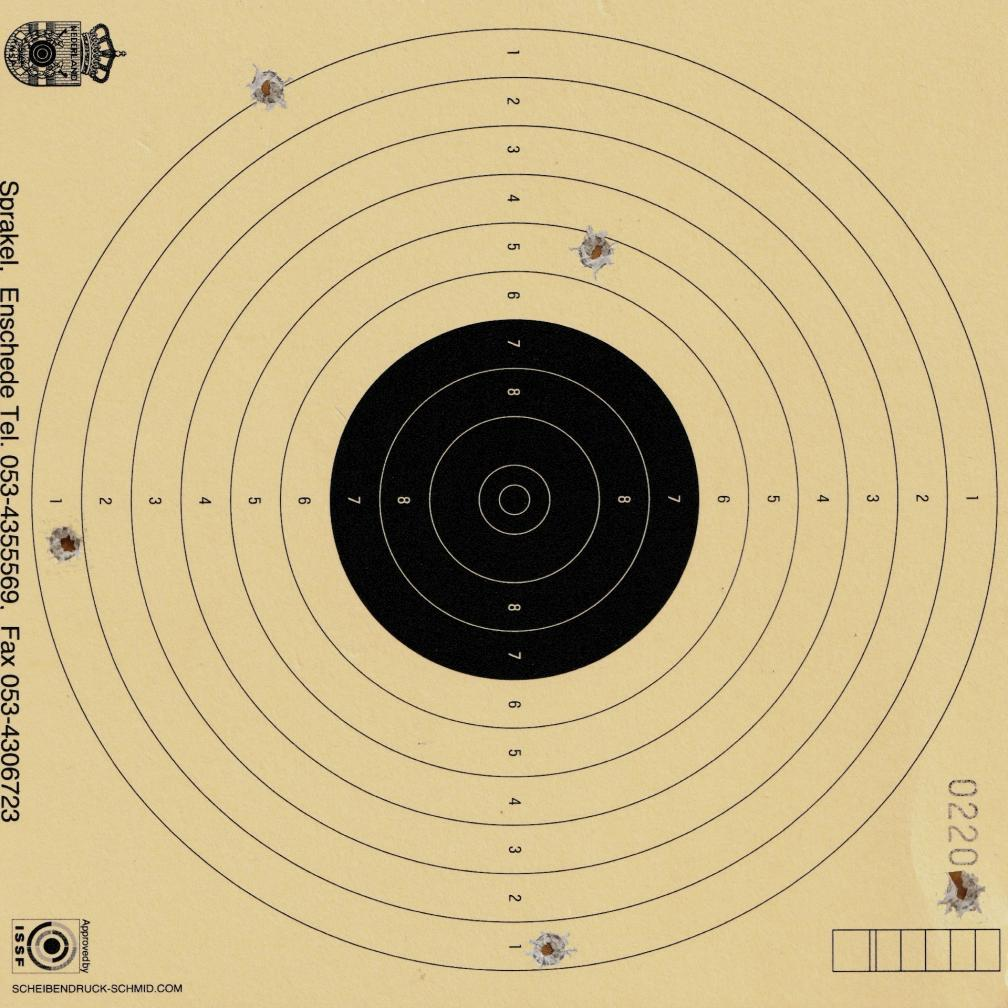0: (933, 868, 987, 919)
1: (526, 927, 572, 970), (241, 68, 286, 110), (44, 520, 84, 563)
5: (571, 228, 623, 278)
Target: (26, 29, 999, 982)
black_contour: (328, 319, 702, 681)
